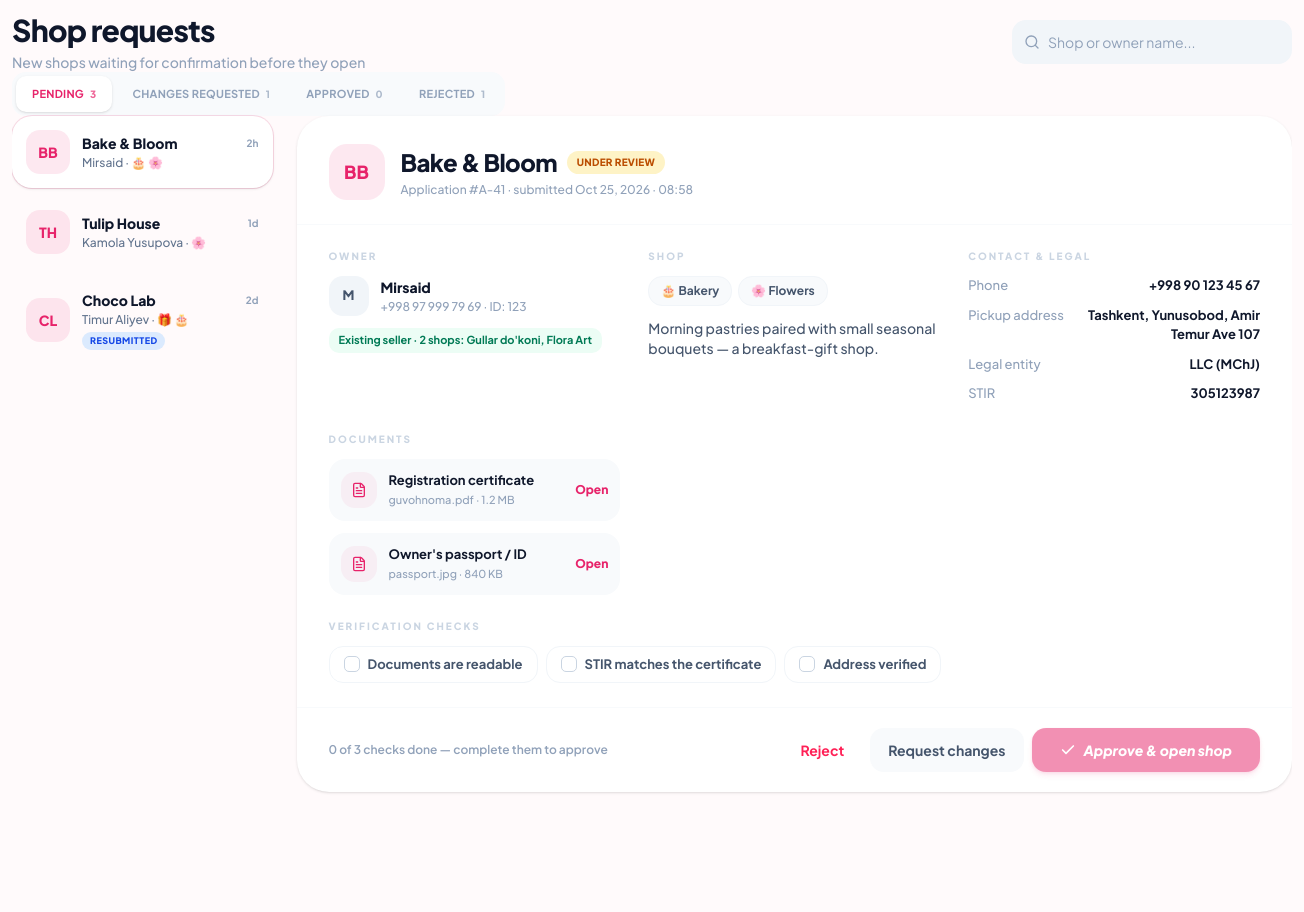
Test case: ShopRequestsPage › shows the previous note on a resubmitted request
The image size is (1304, 912).
Click the button "CL Choco Lab 2d Timur Aliyev · 🎁 🎂 RESUBMITTED".
click(142, 320)  # box [12, 276, 272, 364]
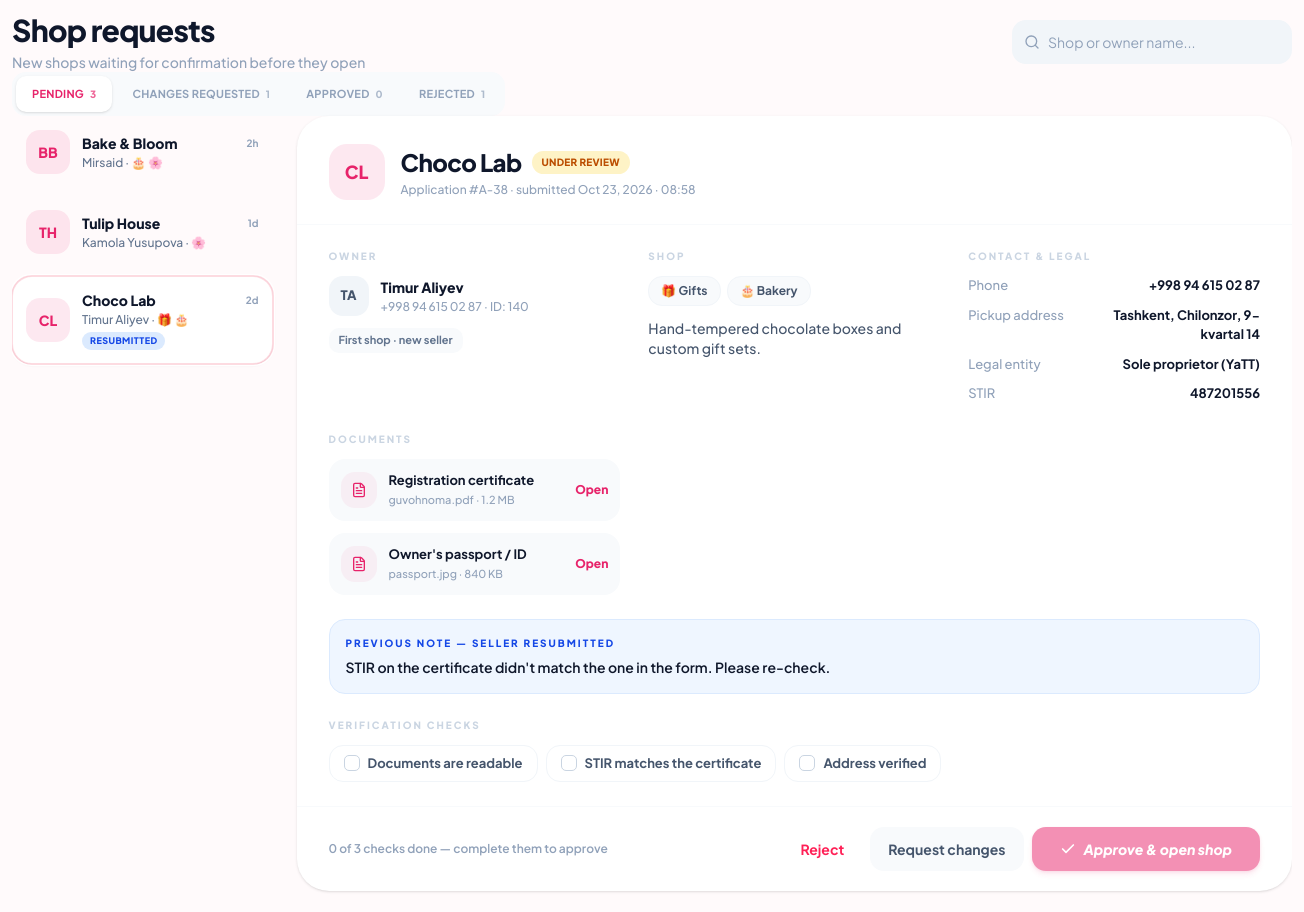
Now the text "Previous note — seller resubmitted" is shown, box [346, 636, 615, 648]
